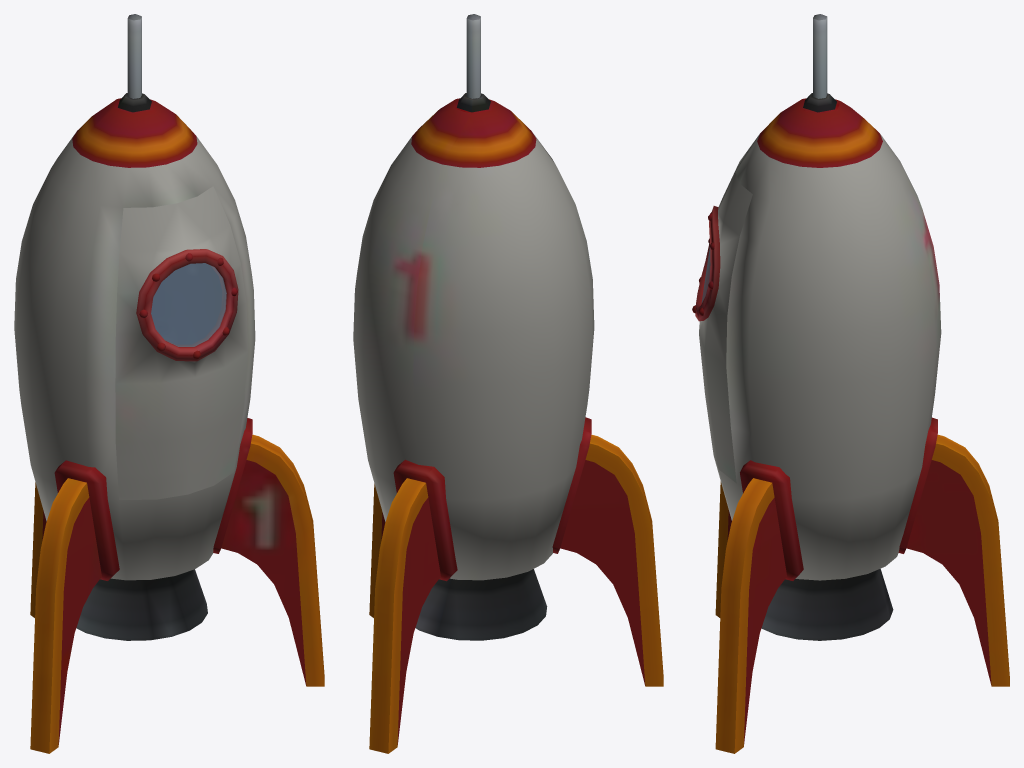
3 renders of one model, left to right at view 1: azimuth 30°, elevation 25°; view 2: azimuth 150°, elevation 25°; view 3: azimuth 270°, elevation 25°, orthographic.
Bounding box in the file's own units: 9.19 × 19.93 × 8.59.
Materials: 3 (2 with a texture image).
